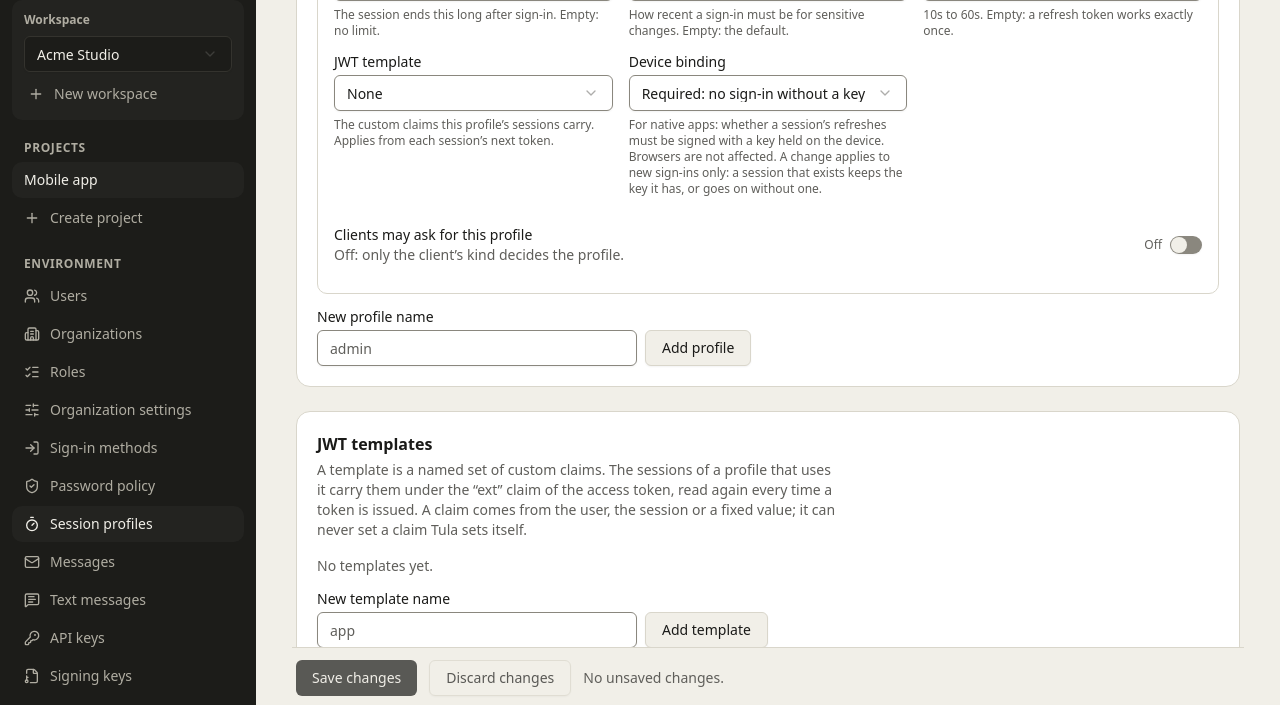
device binding on the session profiles screen › a new profile asks what the mobile profile asks (required), not the web profile’s nothing
This screenshot has width=1280, height=705.
(page scrolled)
Type "kiosk" into the field labelled "New profile name" at point(477, 348), box [317,330,637,366]
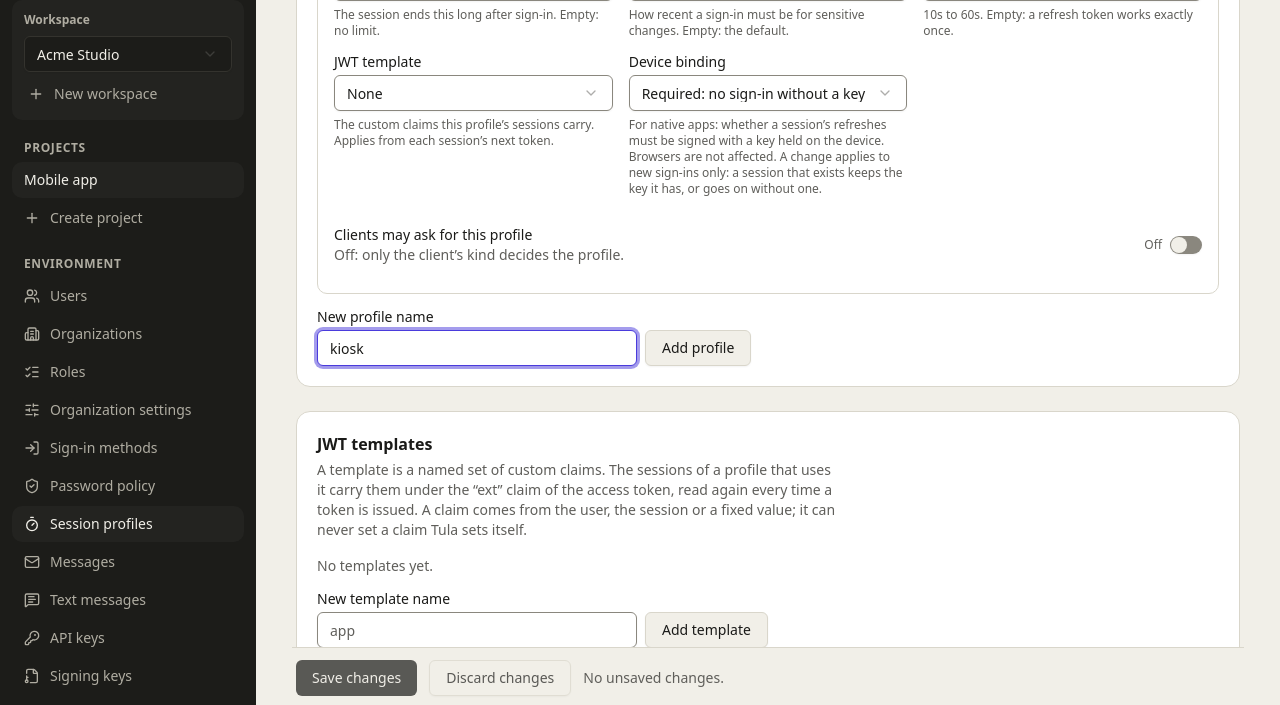
Click the button "Add profile" at point(698, 348), box [645,330,751,366]
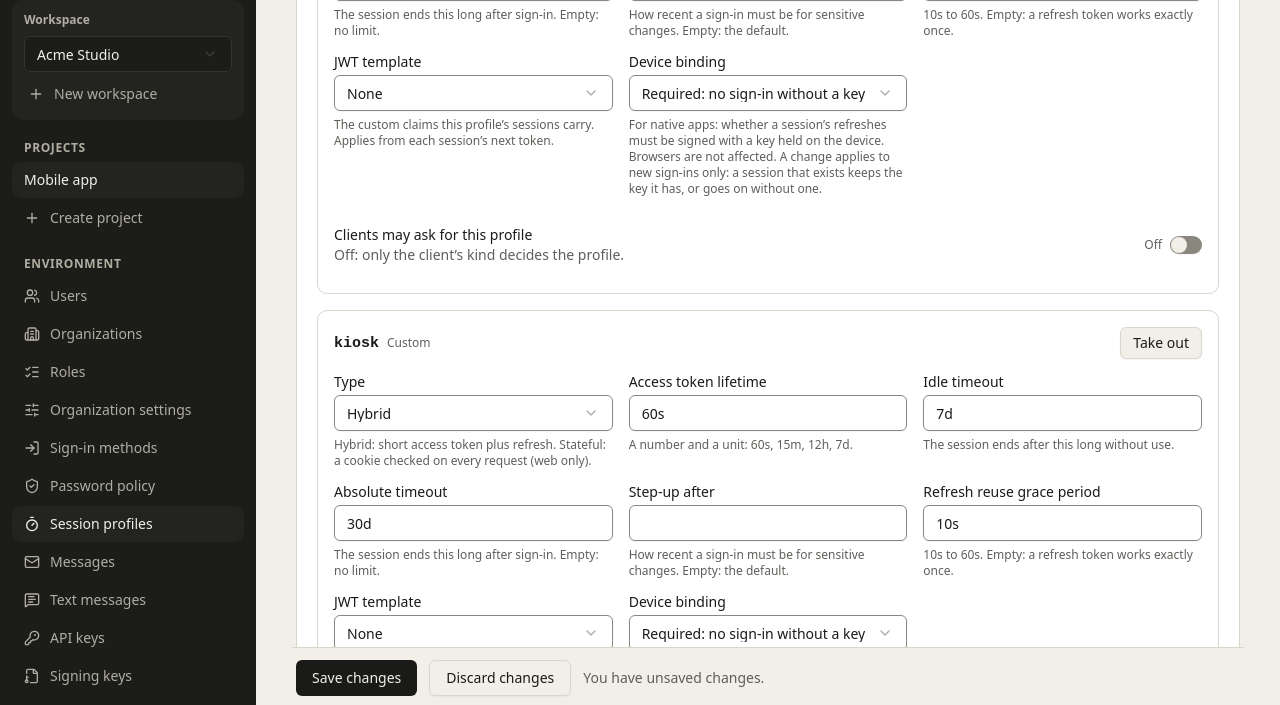
Now the dropdown labelled "Device binding" below "kiosk" shows "Required: no sign-in without a key", box [629,615,907,651]
Click the button "Save changes" at point(357, 678), box [296,660,417,696]
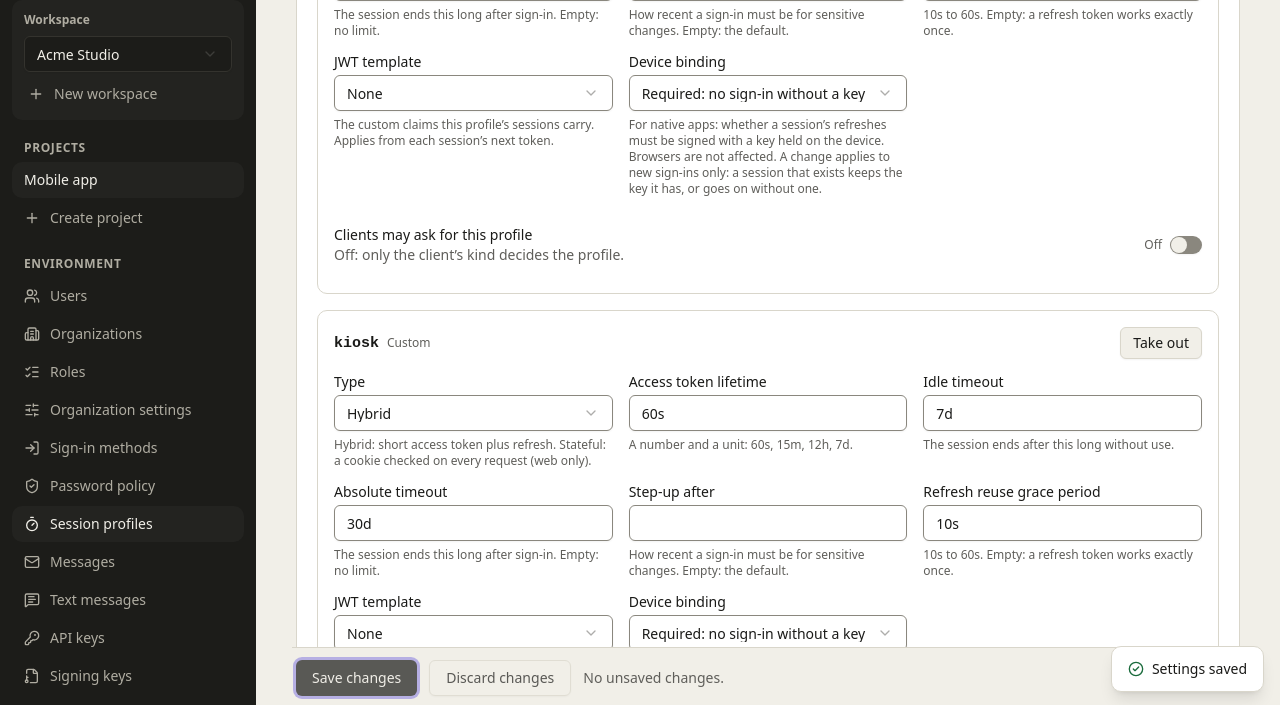
Now the list item "Settings saved" is shown, box [1111,646,1264,692]
